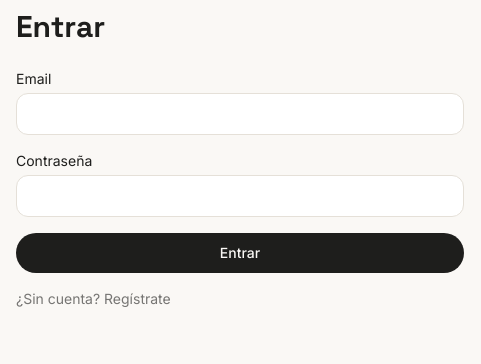
auth pages › shows login error on 401
The image size is (481, 364).
Type "a@desklab.es" into the field labelled "Email" at (240, 114), box 16,93 -> 464,135
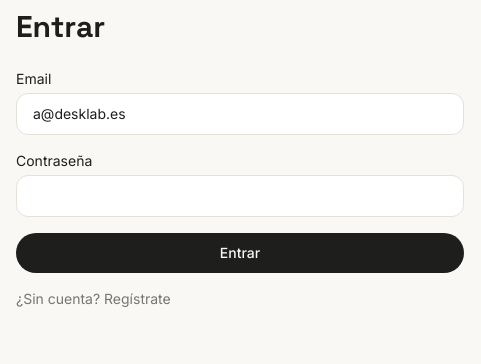
Type "wrongpass" into the password field labelled "Contraseña" at (240, 196), box 16,175 -> 464,217
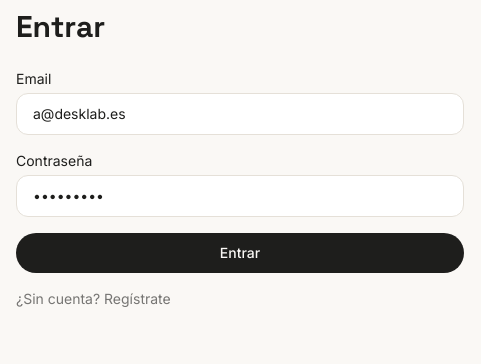
Click the button "Entrar" at (240, 253), box 16,233 -> 464,273
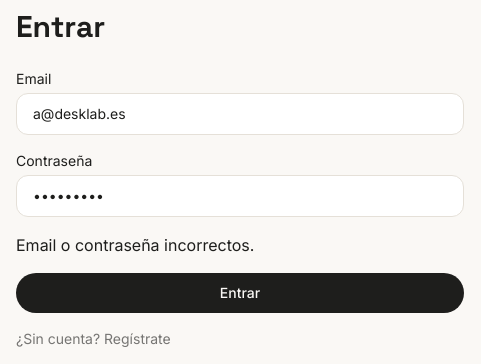
Expected: the text "Email o contraseña incorrectos." is shown, 16,235 -> 254,255
